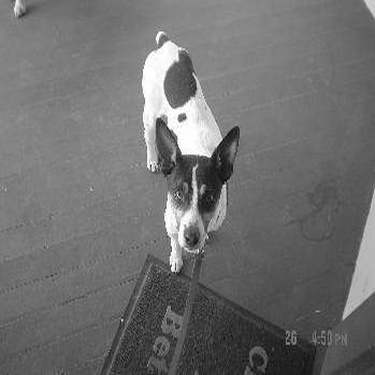dog: (126, 23, 246, 279)
